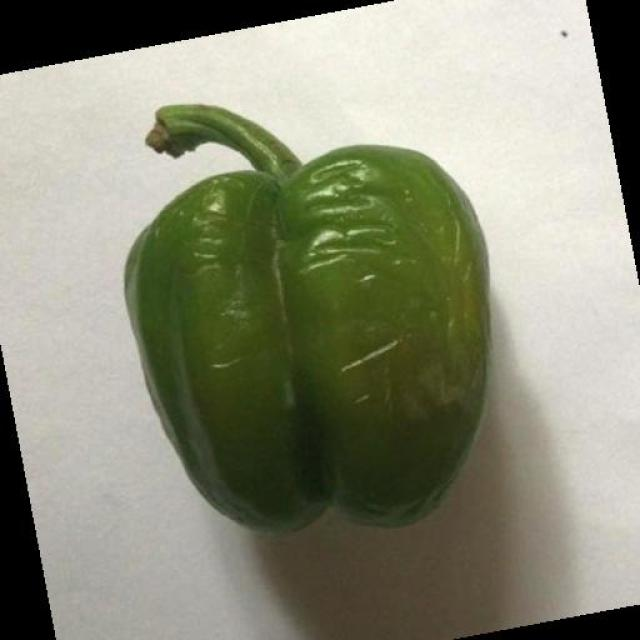Stale_Capsicum: (90, 106, 506, 560)
